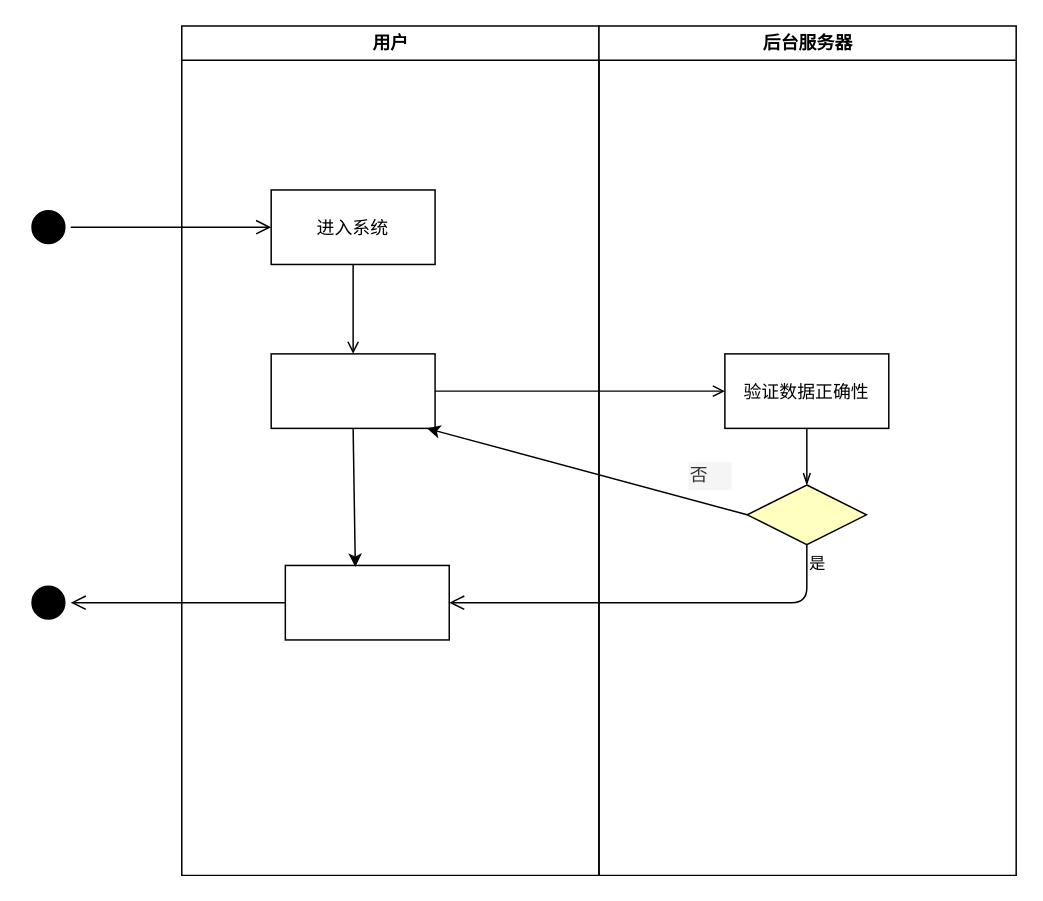
Image size: 1043x901. Some labels were removed from this diagram. The shapes that lost their labels are listed below. From the top down, each one's centre as x and y in pixels, then its label:
At pixel 352 390: "修改成绩".
At pixel 806 514: "是否正确".
At pixel 366 602: "返回数据".
